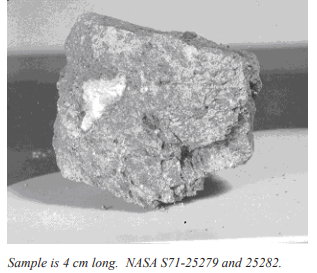Breccia: (49, 8, 265, 216)
